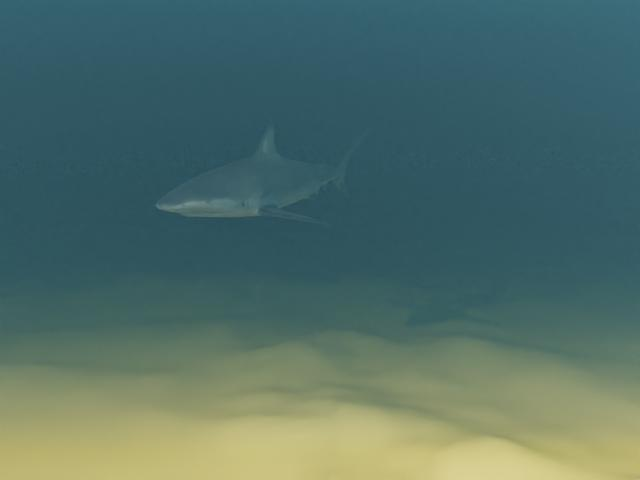Carribean Shark.001: (155, 121, 379, 224)
